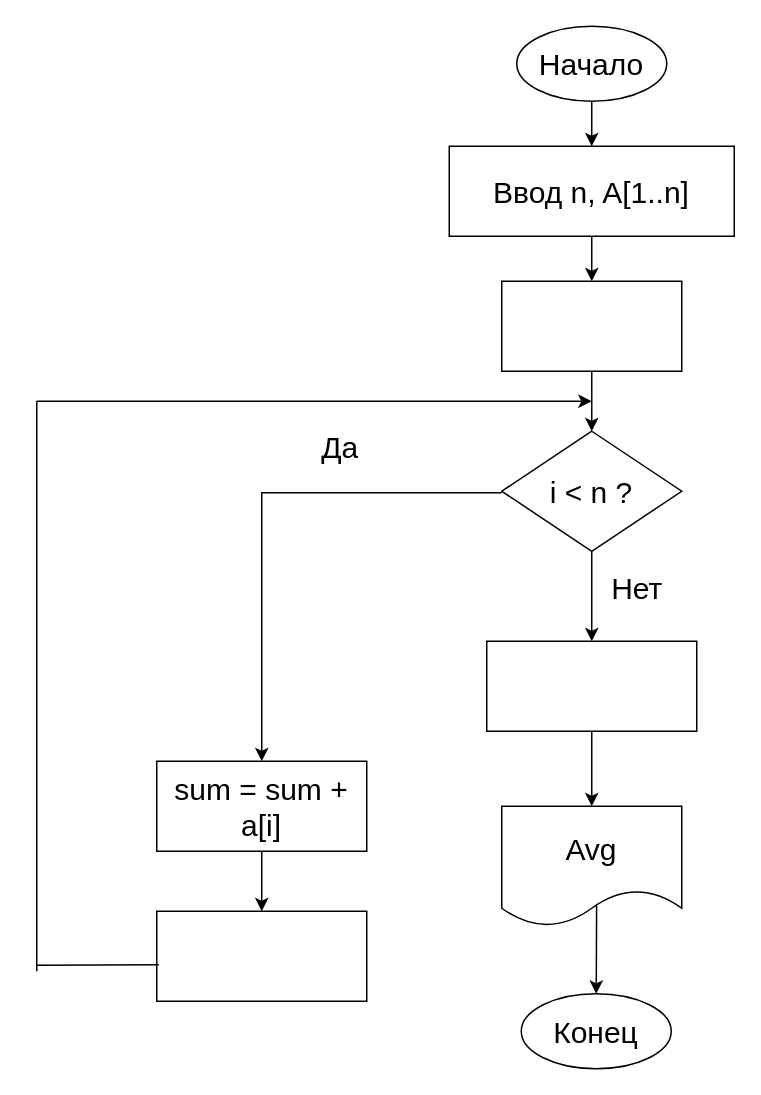
Image size: 761x1095. Some labels were removed from this diagram. Here are the shapes that lost their labels. From the top down, the box of each, then its label:
(500, 280, 682, 371): sum = 0 i = 0
(485, 640, 697, 731): Avg = sum / n
(155, 910, 367, 1001): i = i + 1
